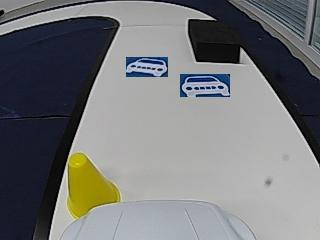block: (186, 19, 240, 63)
cone: (67, 153, 121, 202)
